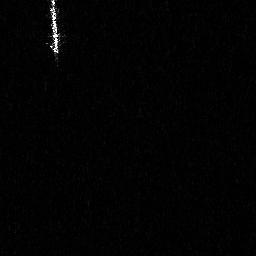ship: (47, 1, 60, 55)
